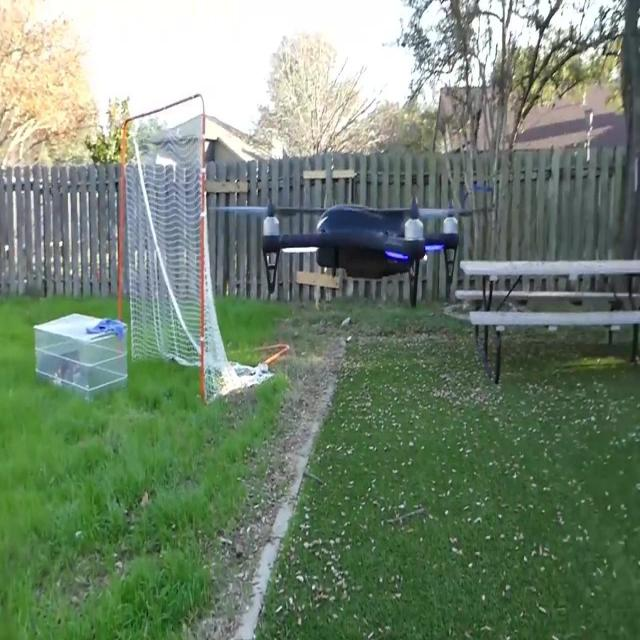drone: (259, 200, 462, 308)
